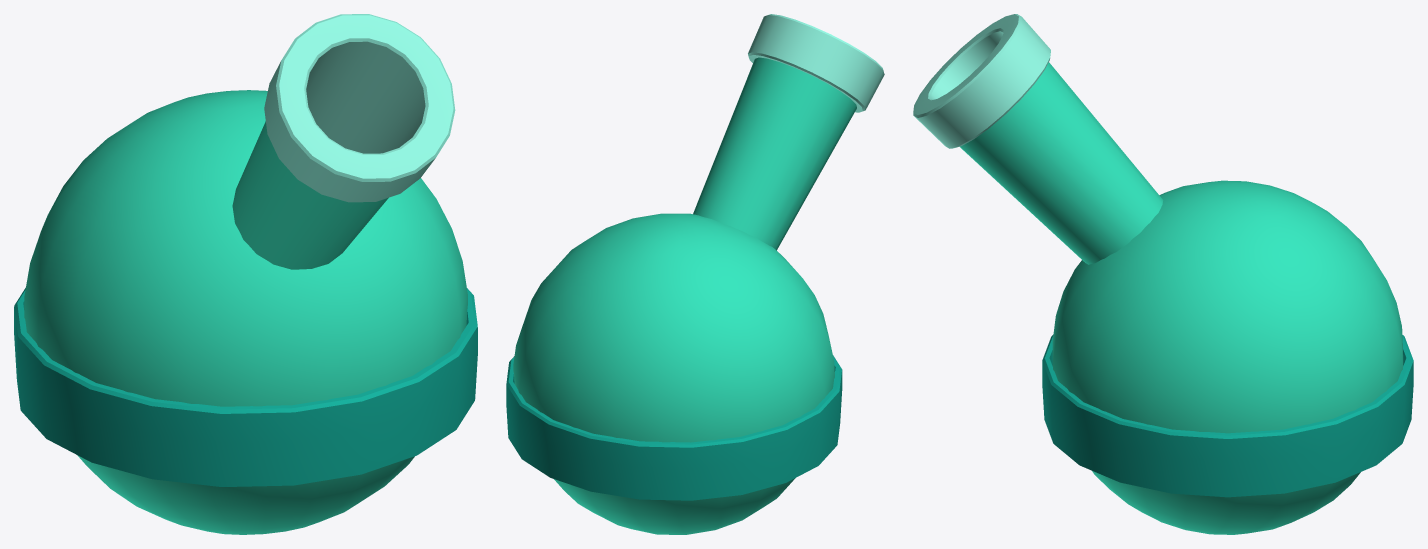
Rendered from Mortar.fbx.
3 renders of one model, left to right at view 1: azimuth 30°, elevation 25°; view 2: azimuth 150°, elevation 25°; view 3: azimuth 270°, elevation 25°, orthographic. The views are drawn at different scales.
Visible parts, largest first — view 1: DynaHead, Cannon, StaticHead; view 2: DynaHead, Cannon, StaticHead; view 3: DynaHead, Cannon, StaticHead.
Part boxes in pixels (x1,y1,x2,y2): DynaHead: [24, 90, 467, 534]; Cannon: [232, 14, 455, 269]; StaticHead: [14, 287, 477, 486]; DynaHead: [513, 213, 834, 534]; Cannon: [693, 14, 884, 250]; StaticHead: [506, 355, 842, 500]; DynaHead: [1052, 180, 1403, 534]; Cannon: [913, 14, 1163, 264]; StaticHead: [1042, 335, 1413, 497].
Size of the model in its own units: 0.6969 by 0.9956 by 0.9387.
